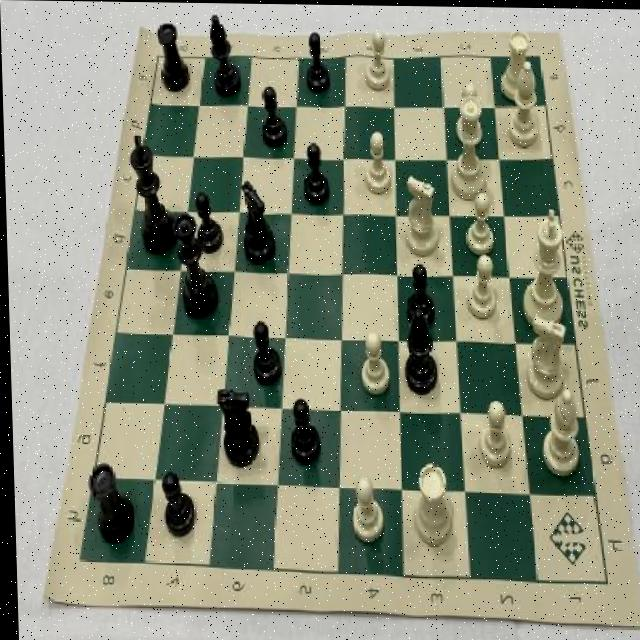bishop: (397, 305, 440, 397), (206, 8, 242, 100)
black-bishop: (127, 131, 175, 254)
black-king: (214, 382, 259, 469), (239, 176, 277, 268)
black-knight: (158, 468, 199, 541), (247, 315, 286, 389), (284, 393, 319, 466), (299, 137, 331, 208), (301, 28, 333, 95), (404, 260, 435, 328), (194, 190, 223, 259), (259, 83, 288, 152)
black-pawn: (172, 214, 219, 329)
black-queen: (84, 459, 136, 546), (153, 19, 192, 94)
black-rook: (536, 386, 582, 475), (505, 60, 542, 149)
white-bishop: (519, 204, 567, 327)
white-king: (518, 314, 567, 400), (399, 174, 438, 258)
white-knight: (346, 473, 385, 548), (473, 396, 511, 470), (462, 248, 498, 321), (355, 326, 388, 398), (461, 190, 494, 259), (360, 127, 392, 197), (363, 26, 395, 93), (451, 81, 483, 144)
white-pawn: (445, 94, 491, 202)
white-queen: (409, 457, 452, 549), (497, 26, 531, 101)
